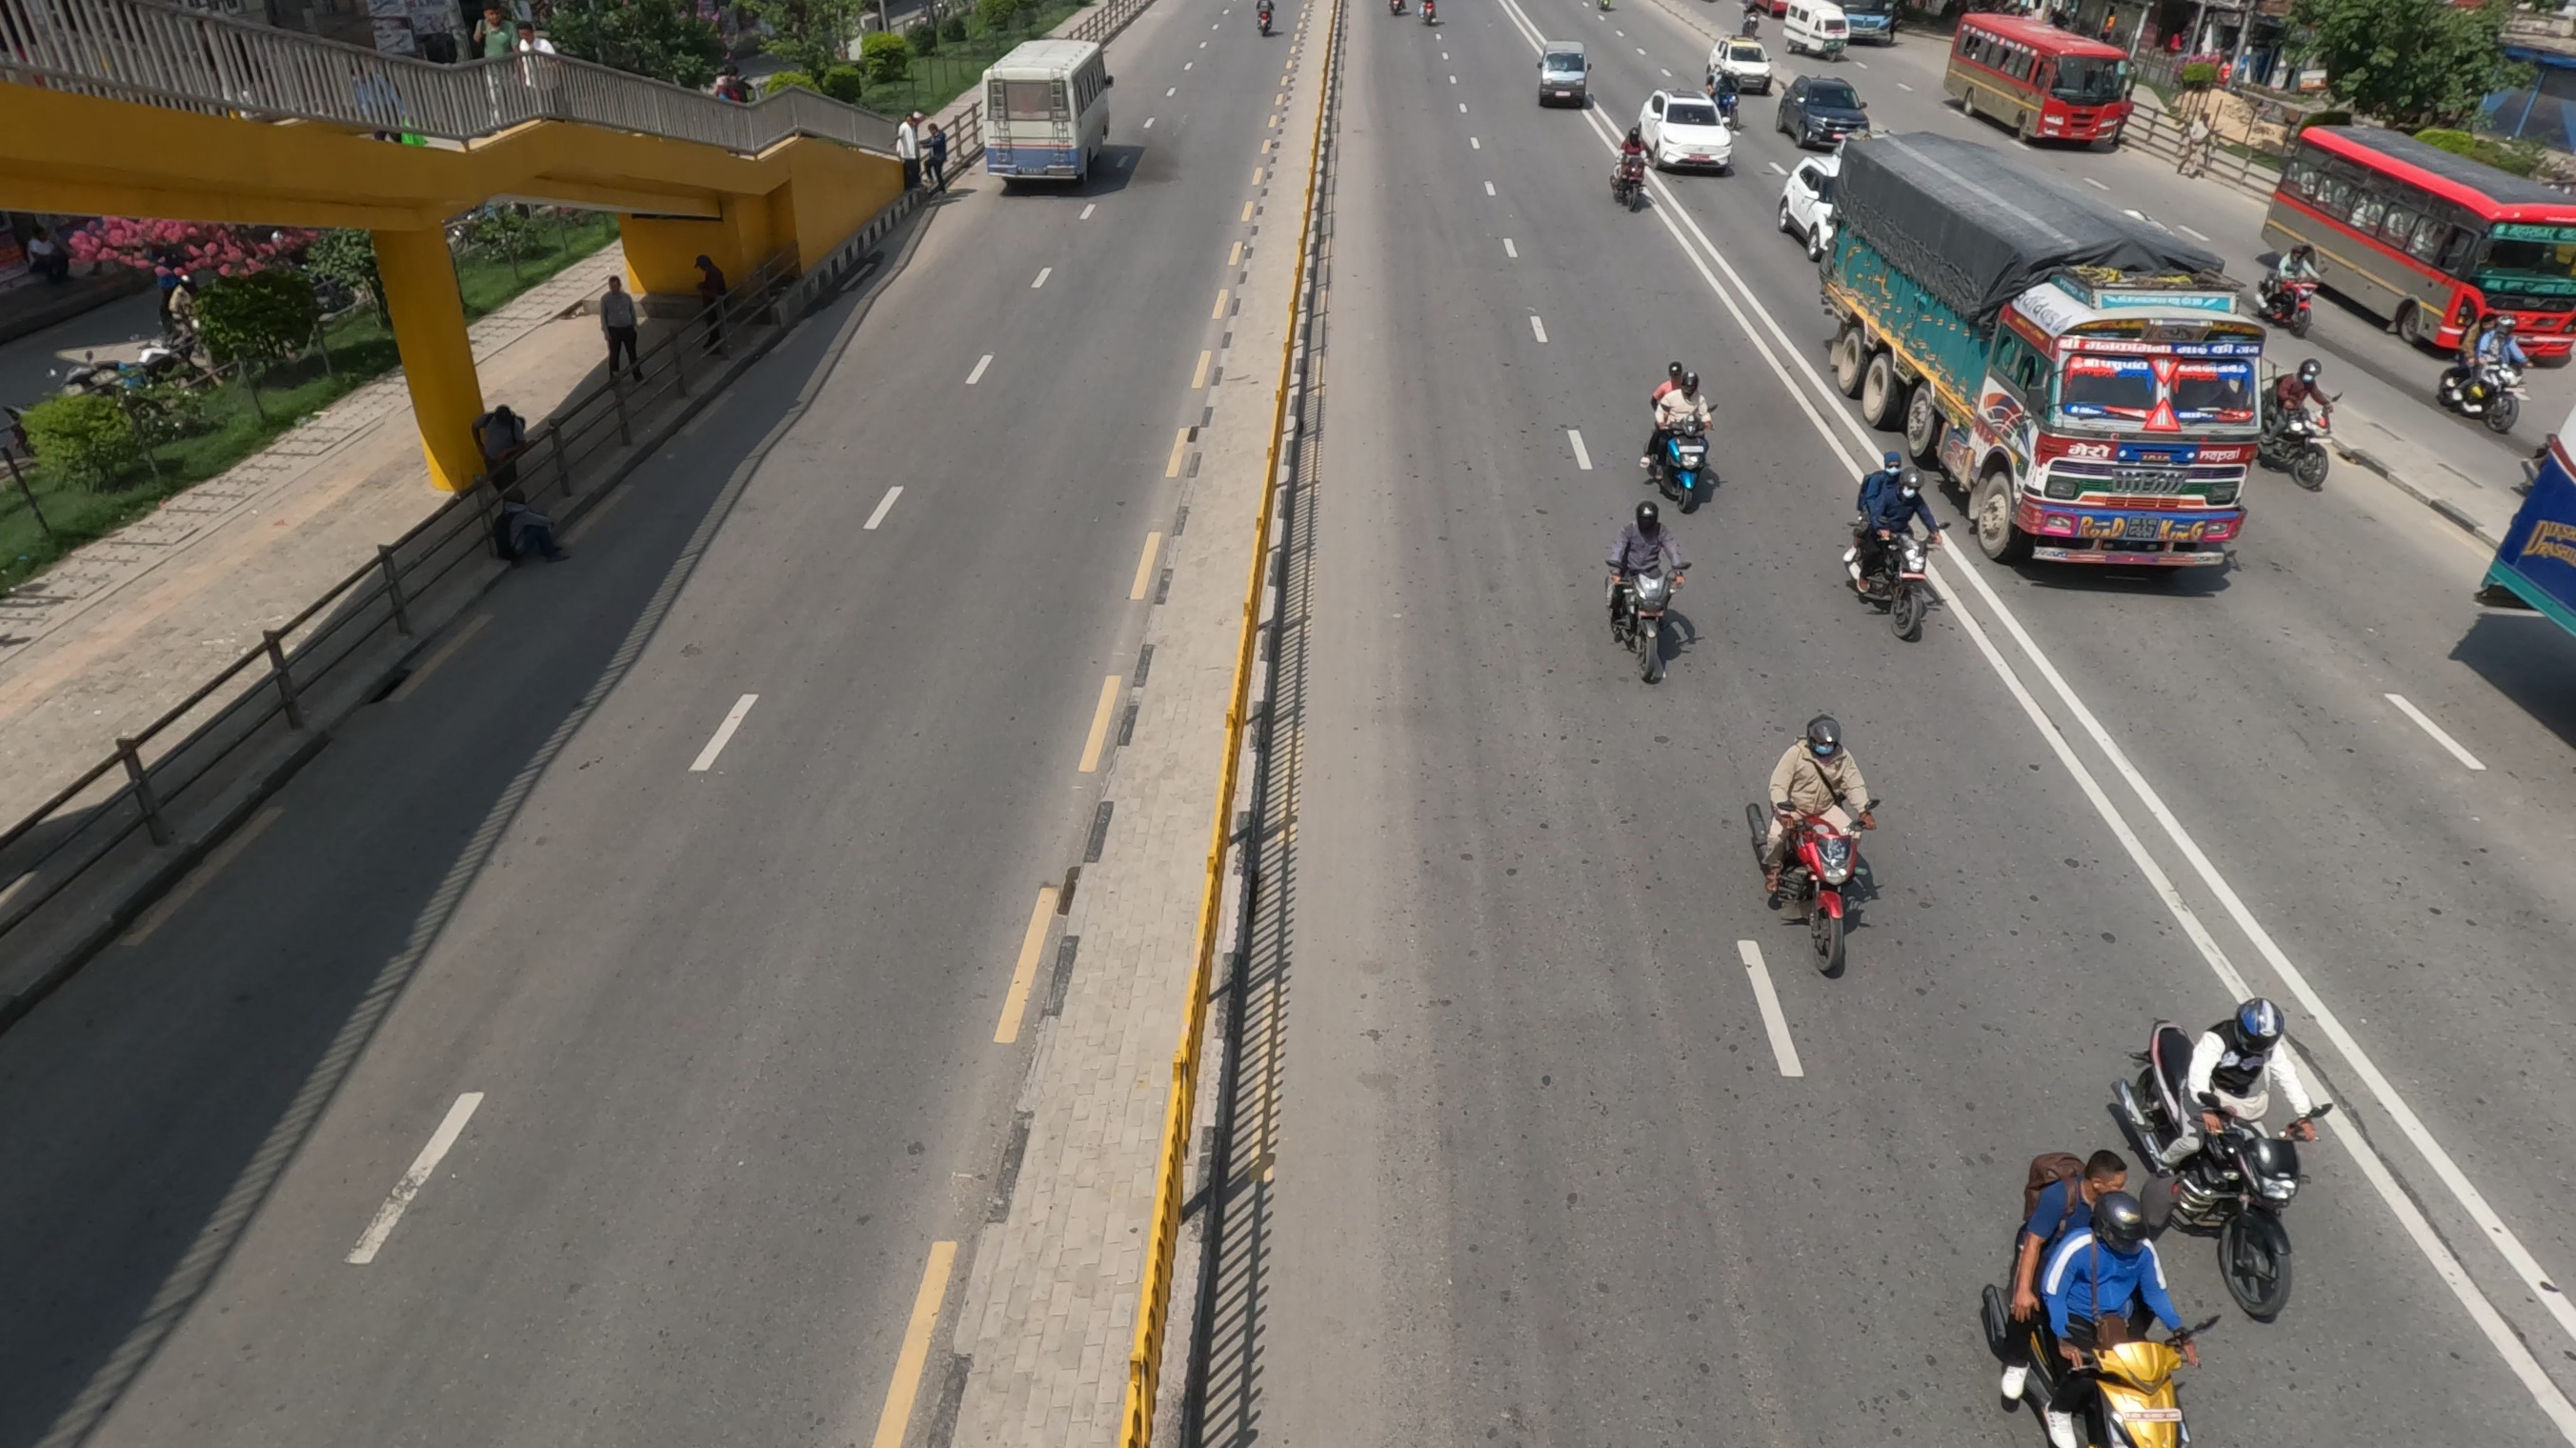smoky: (989, 73, 1187, 196)
